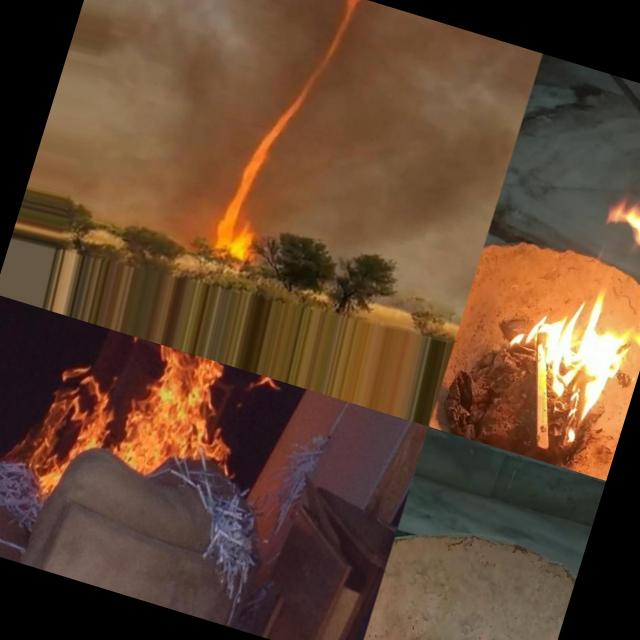fire: (10, 314, 245, 540), (486, 263, 640, 438), (589, 181, 640, 264), (368, 613, 491, 640), (208, 205, 266, 262), (312, 10, 352, 76), (247, 108, 287, 170), (226, 162, 265, 214), (283, 66, 319, 120), (337, 0, 360, 18)
smoke: (286, 0, 542, 282), (27, 0, 291, 240), (248, 114, 318, 236), (385, 262, 471, 326), (269, 0, 338, 71)
